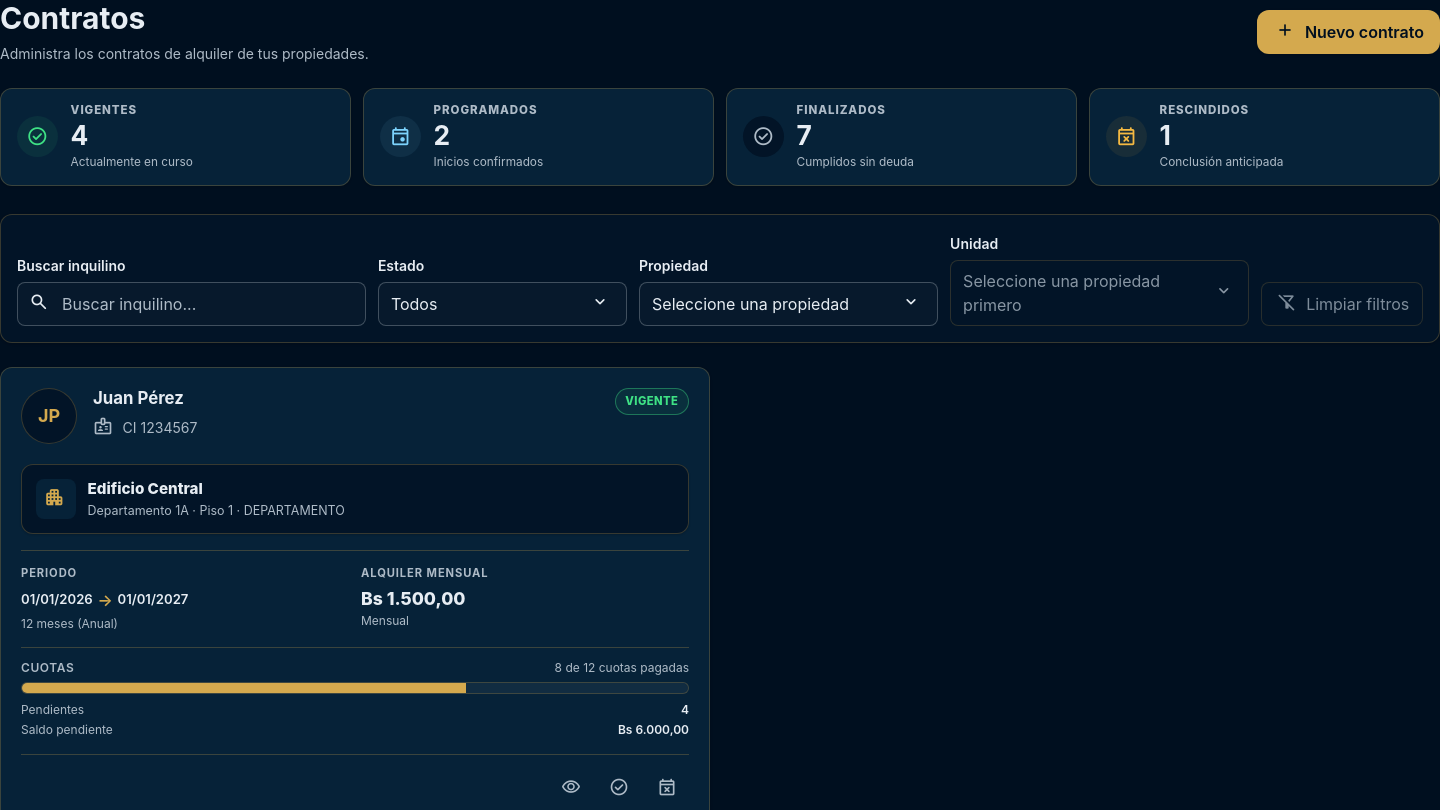
Scenario: ContratosListComponent › rescisión: ante BUSINESS_RULE_VIOLATION 422 muestra el detail y actualiza las cuotas sin repetir el PATCH
Click the button with class "action-rescind".
click(667, 788)  # box top-left (645, 766), bottom-right (689, 809)
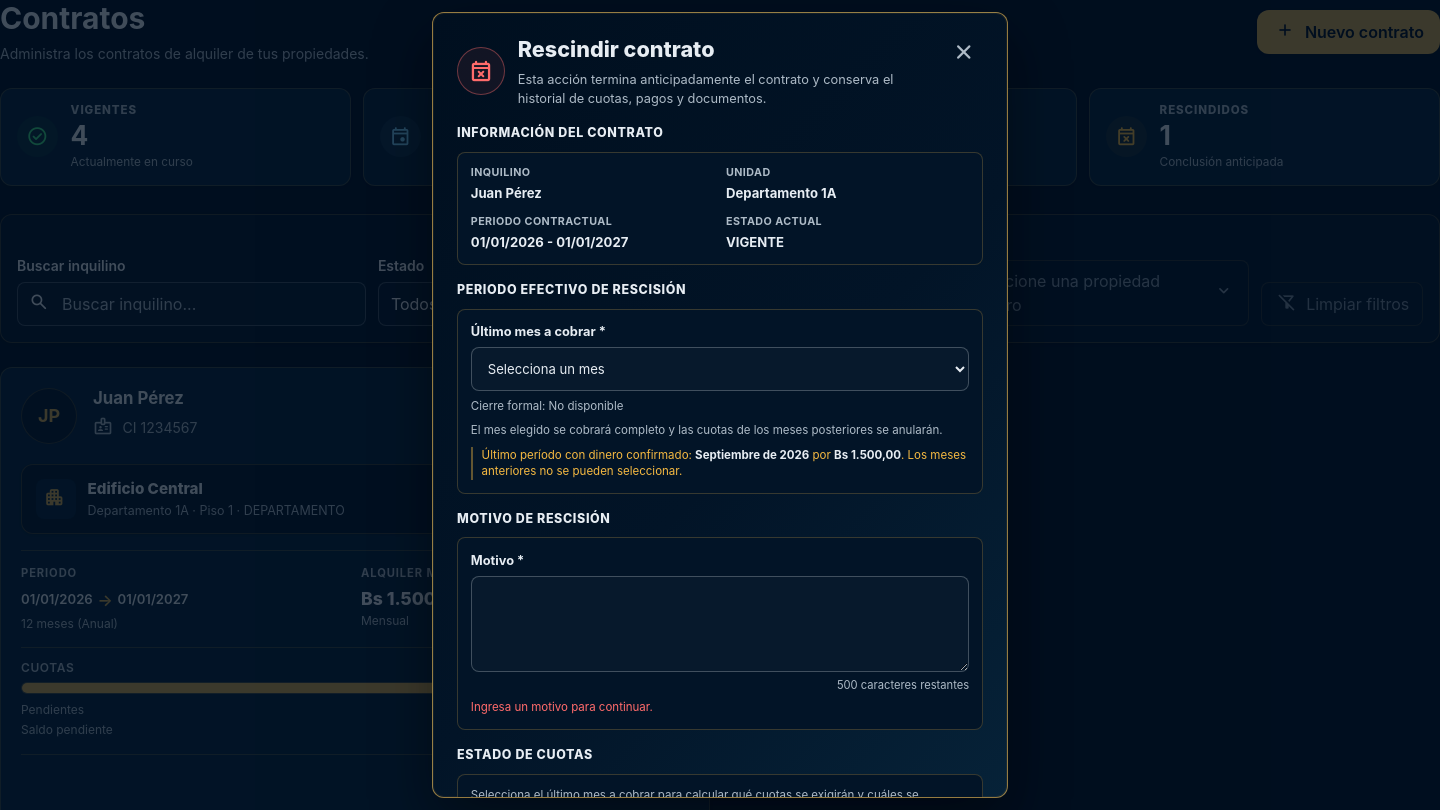
Select "Septiembre de 2026" in the dropdown with id "rescind-month" at (720, 369), box top-left (471, 347), bottom-right (969, 391)
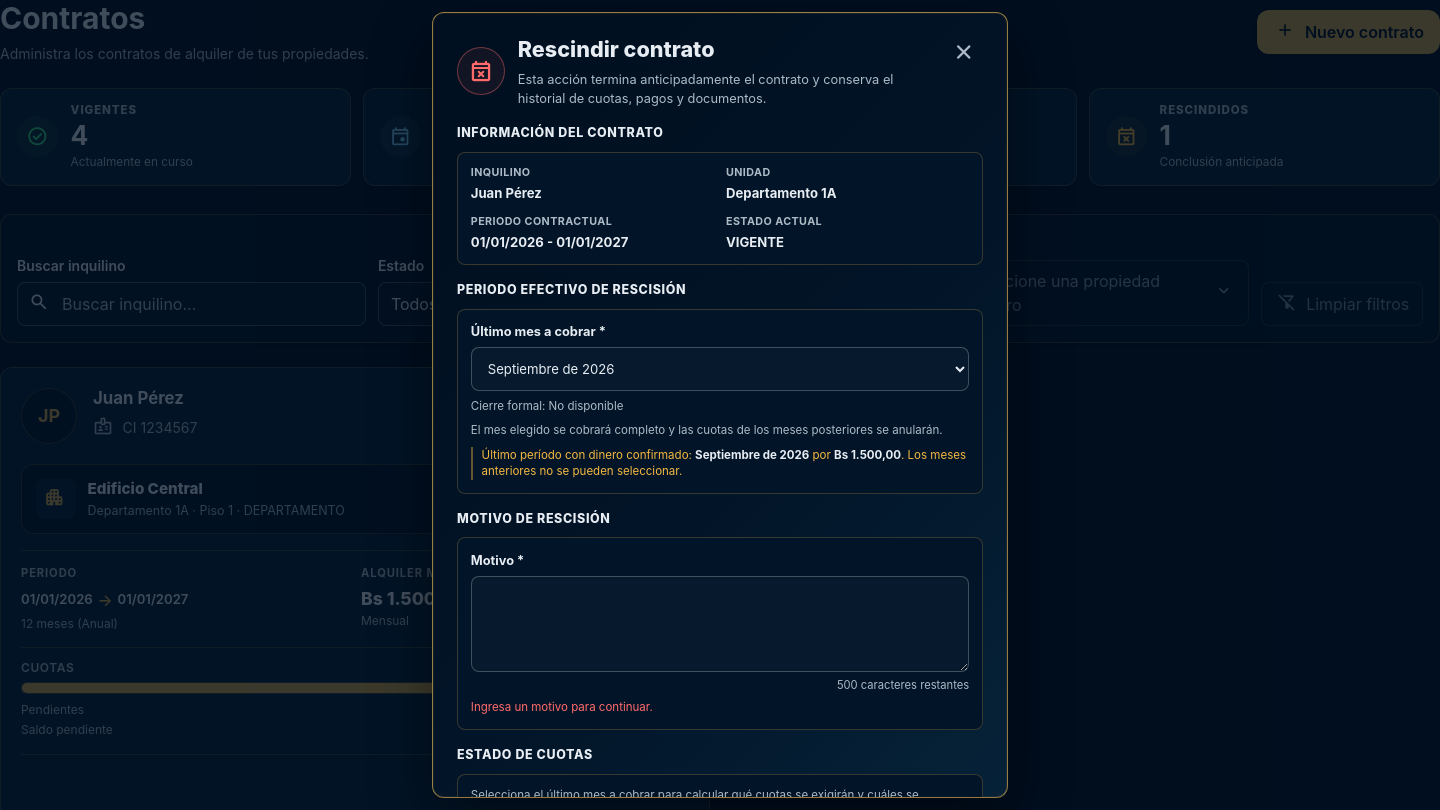
Type "Se conserva el motivo escrito" into the text box with id "rescind-reason".
click(720, 624); type("Se conserva el motivo escrito")  # box top-left (471, 576), bottom-right (969, 672)
(page scrolled)
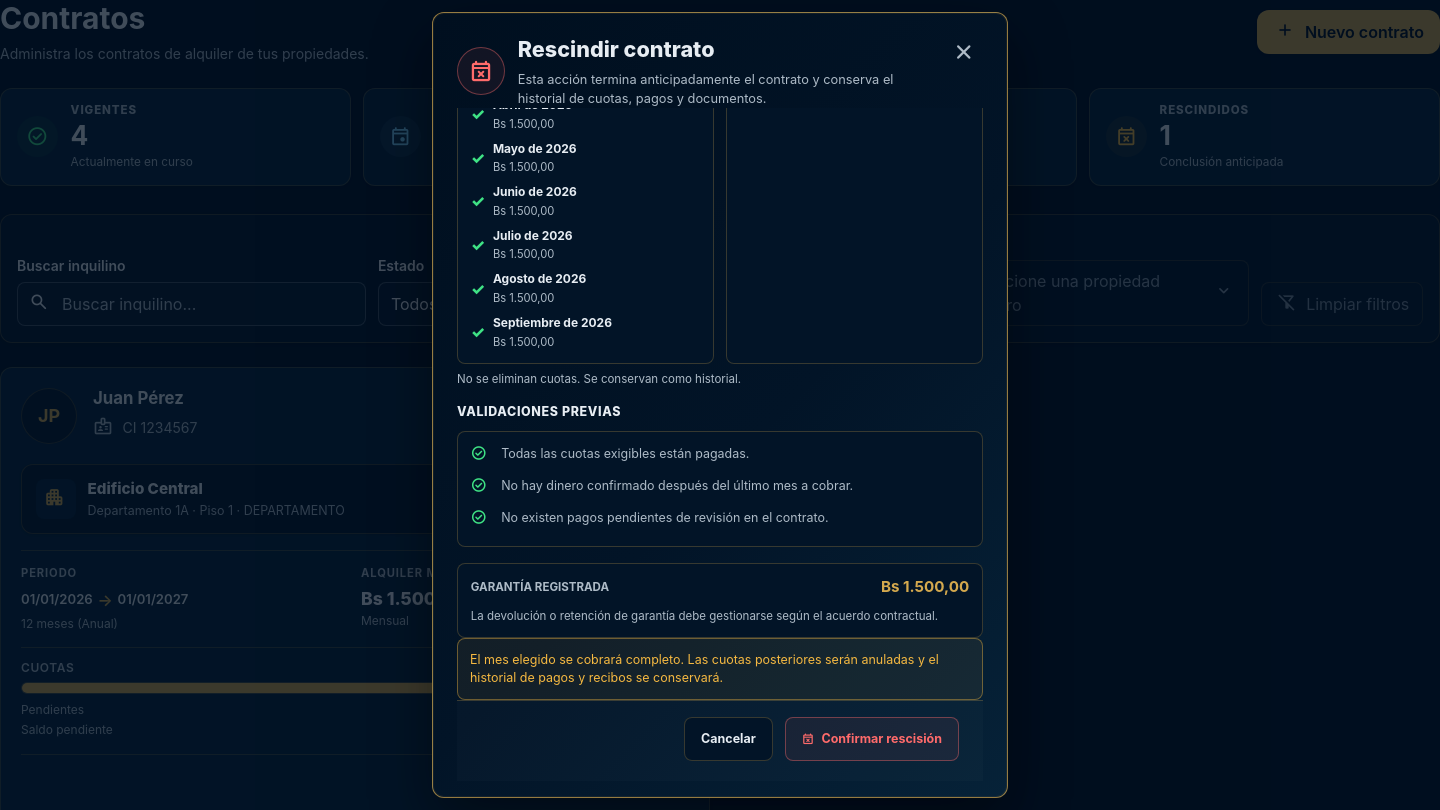
Click the button with class "action-modal-submit".
click(872, 739)  # box top-left (785, 717), bottom-right (959, 761)
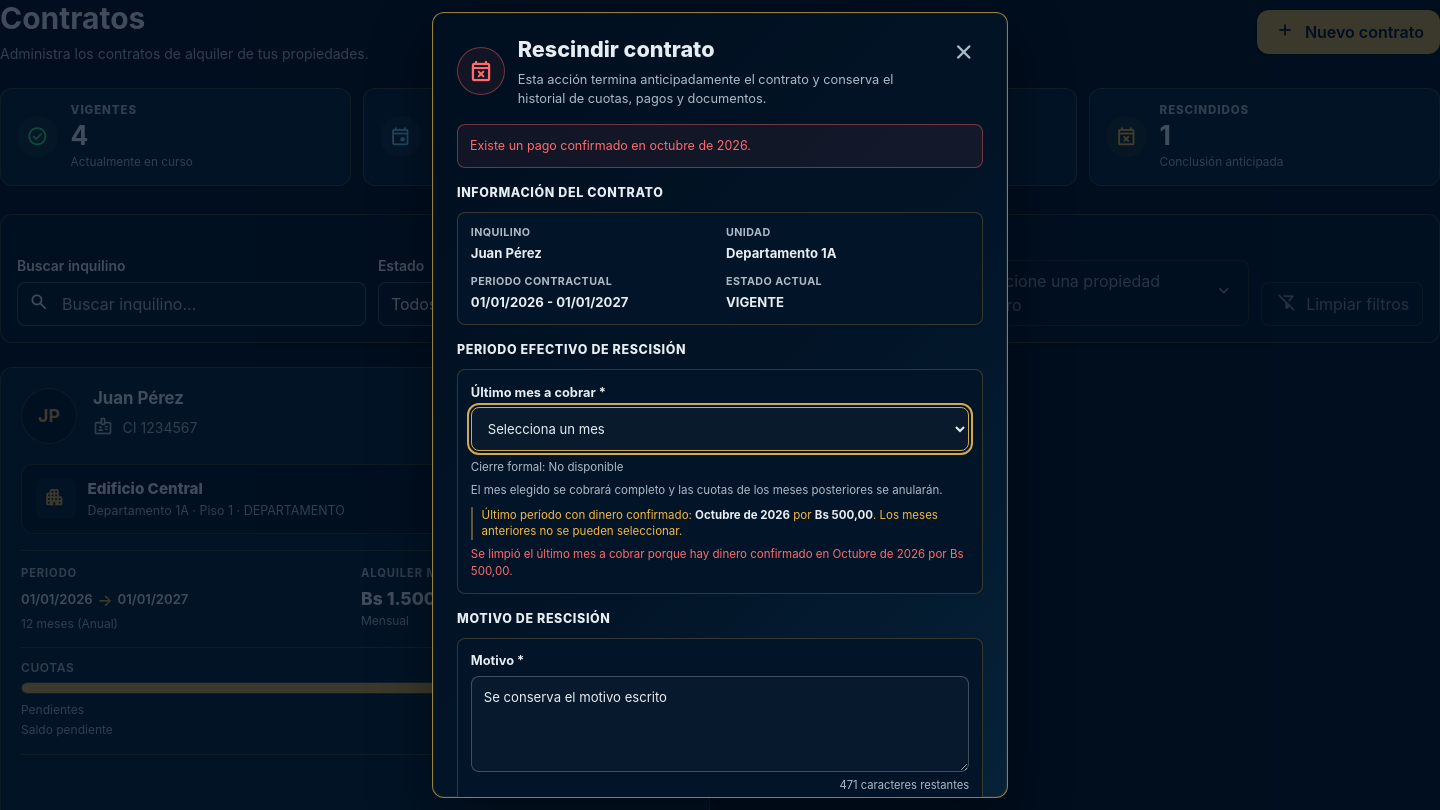
Expected: the text "Existe un pago confirmado en octubre de 2026." is shown, top-left (457, 124), bottom-right (983, 168)
